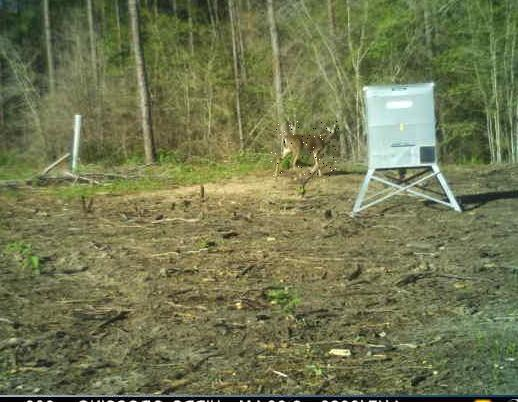Deer: (270, 121, 339, 177)
